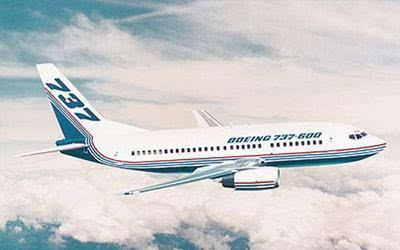airplane: (15, 59, 390, 194)
